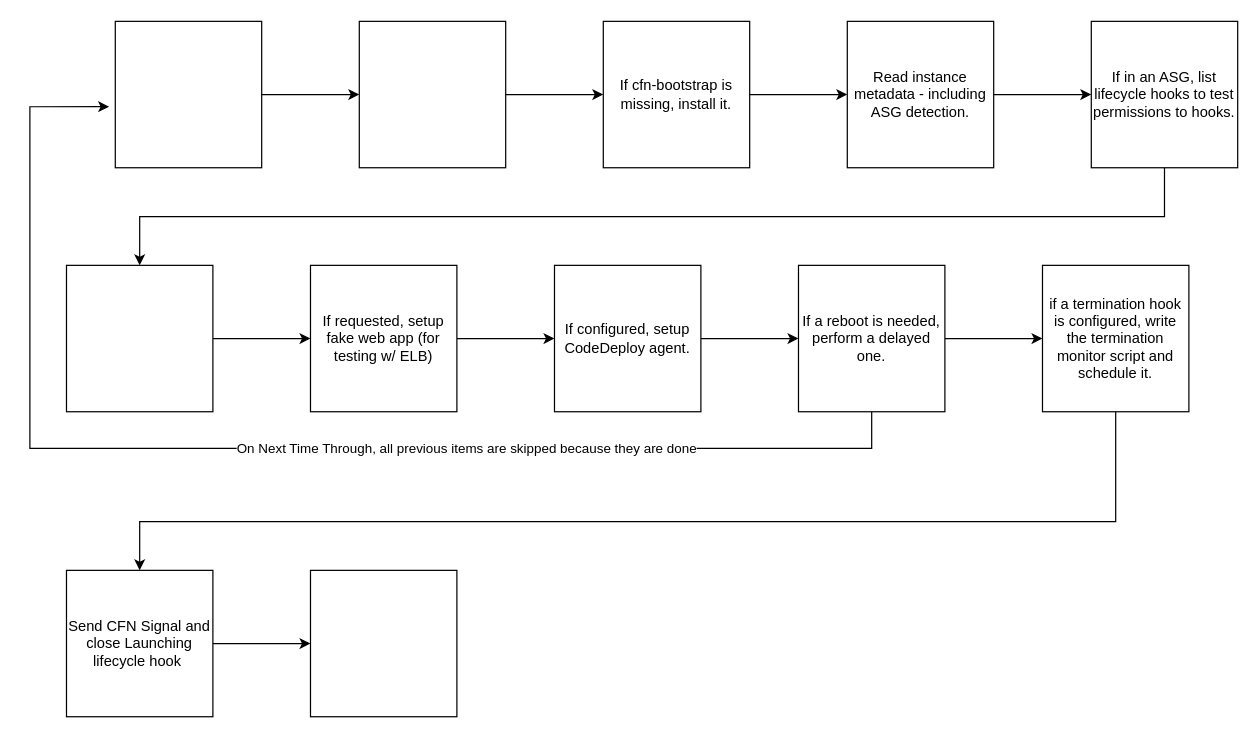
Some shapes in this 1259 by 738 pixel diagram are drawn without their labels. Each missing label, with the centre of its shape:
"Complete the requested patching level." belongs at point 139,338.
"If aws cli is missing, install it." belongs at point 432,94.
"If Synthetic CPU Loading was requested, setup the CPU loading loop." belongs at point 383,643.
"If Troubleshooting mode is enabled, install SSM (if it isn't already installed)" belongs at point 188,94.
